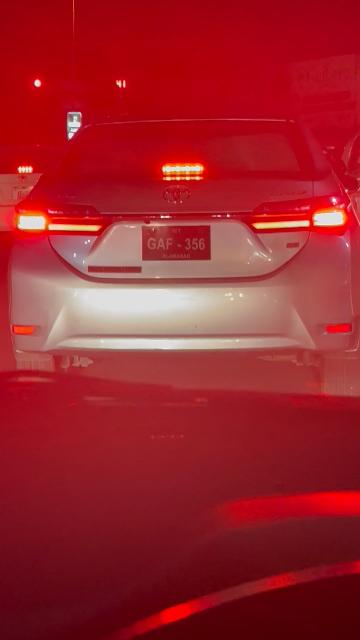plate: (142, 226, 210, 260)
